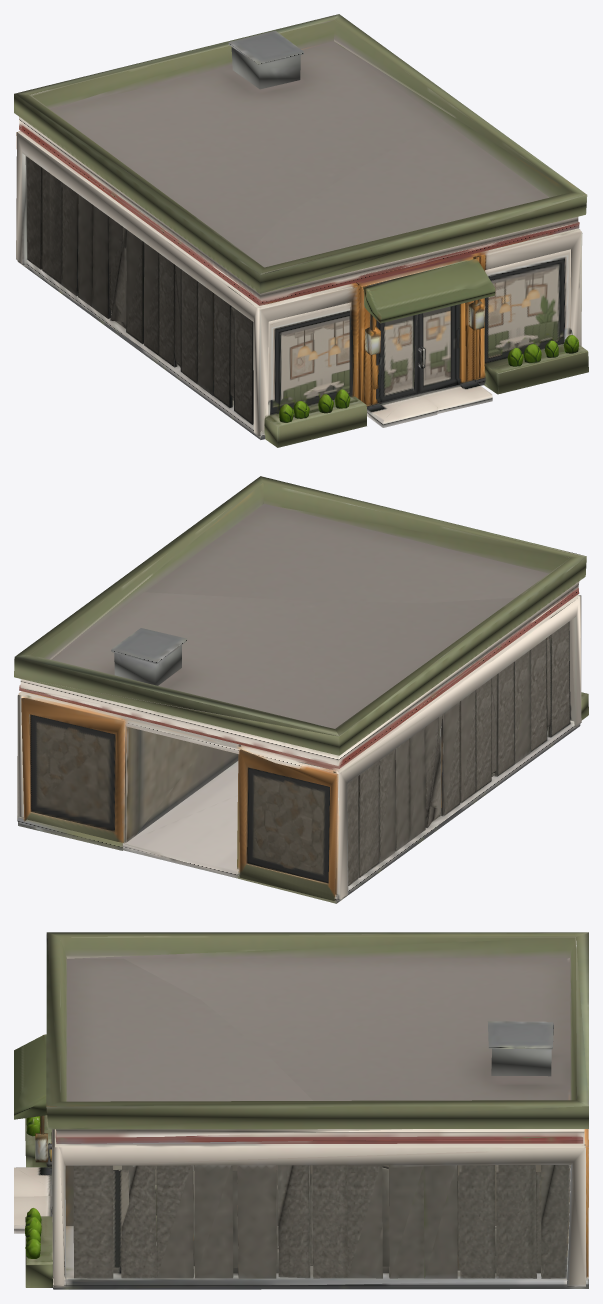
Rendered from CasualDiningExterior (1).fbx.
3 renders of one model, top to bottom at view 1: azimuth 30°, elevation 25°; view 2: azimuth 150°, elevation 25°; view 3: azimuth 270°, elevation 25°, orthographic. The views are drawn at different scales.
Visible parts, largest first — view 1: Mesh_0; view 2: Mesh_0; view 3: Mesh_0.
Boxes of the visible parts, x1,y1,x2,y2 form: Mesh_0: [14, 14, 588, 447]; Mesh_0: [14, 476, 588, 903]; Mesh_0: [14, 932, 588, 1289].
Size of the model in its own units: 72.04 by 38.97 by 100.
1 material, 1 textured.
